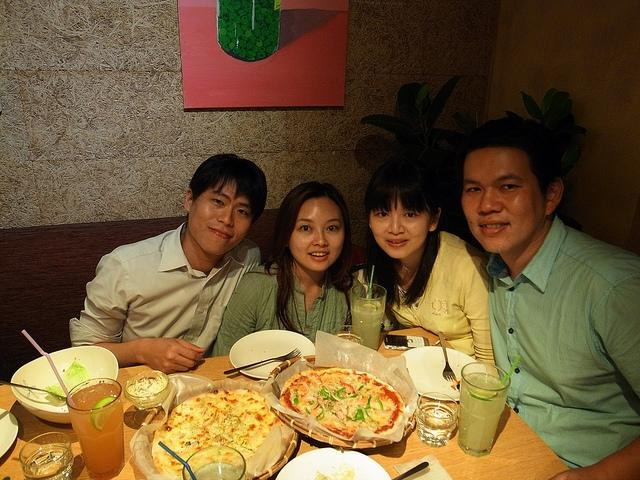lime: (90, 396, 122, 432), (468, 388, 498, 402), (363, 304, 377, 312)
